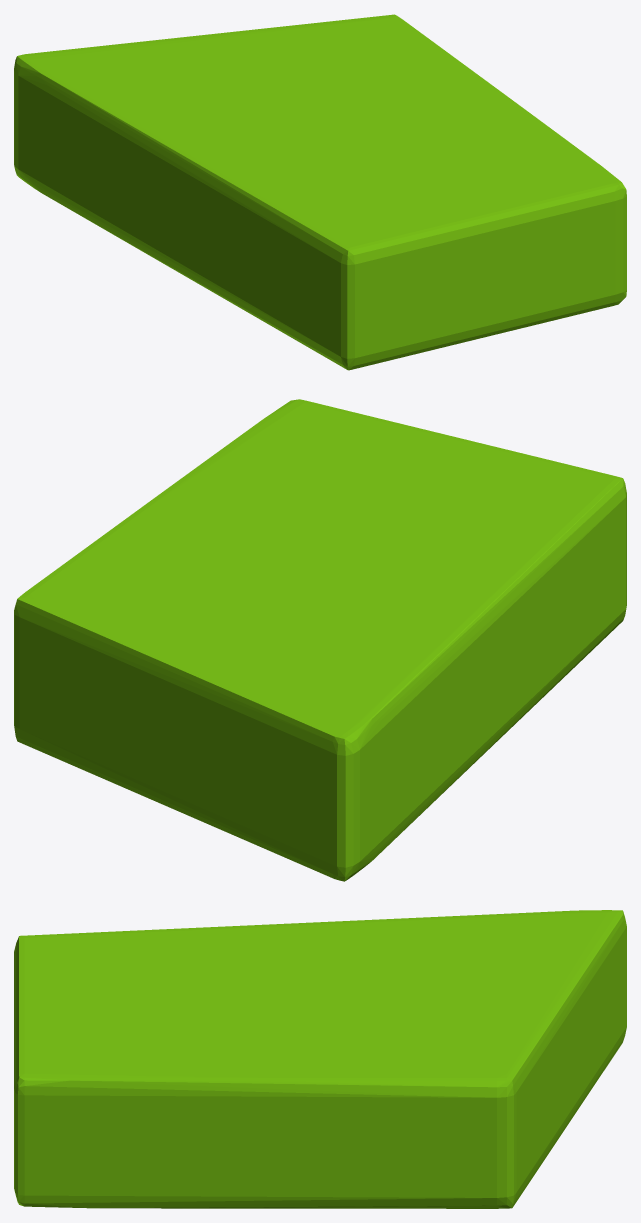
The model's file is right_knee_link_part_4.obj.
3 renders of one model, top to bottom at view 1: azimuth 30°, elevation 25°; view 2: azimuth 150°, elevation 25°; view 3: azimuth 270°, elevation 25°, orthographic. The views are drawn at different scales.
Size of the model in its own units: 0.0666 by 0.0226 by 0.0977.
